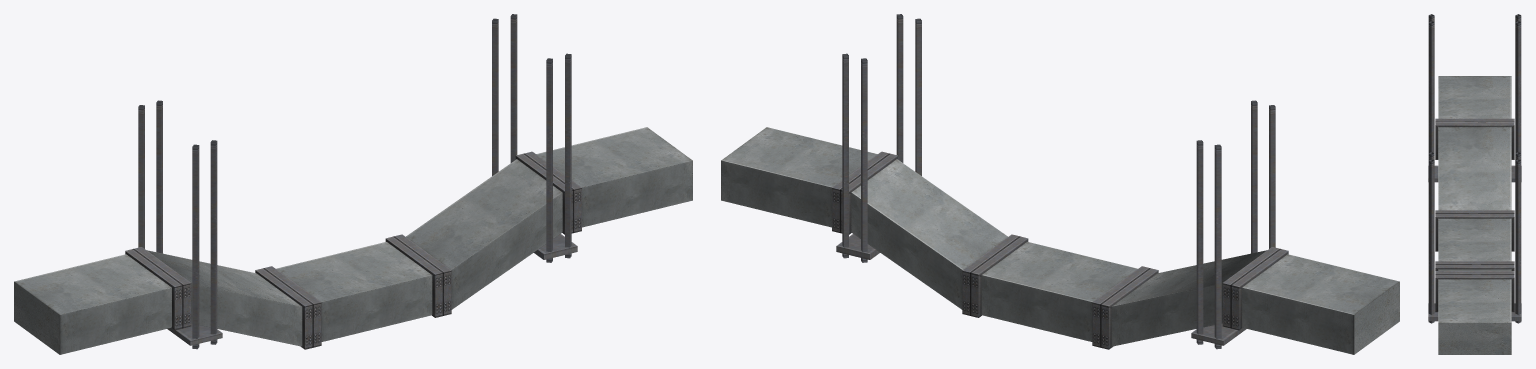
The model's file is Ventilation_pipe_C.FBX.
The picture shows the model from 3 angles, left to right: view 1: azimuth 30°, elevation 25°; view 2: azimuth 150°, elevation 25°; view 3: azimuth 270°, elevation 25°; orthographic projection. The views are drawn at different scales.
Parts seen in each view (by area): view 1: Ventilation_pipe_C; view 2: Ventilation_pipe_C; view 3: Ventilation_pipe_C.
Boxes of the visible parts, bbox=[...] form: Ventilation_pipe_C: bbox=[14, 14, 692, 354]; Ventilation_pipe_C: bbox=[721, 14, 1399, 354]; Ventilation_pipe_C: bbox=[1428, 14, 1521, 354].
Size of the model in its own units: 384 by 61.31 by 135.
1 material, 1 textured.
